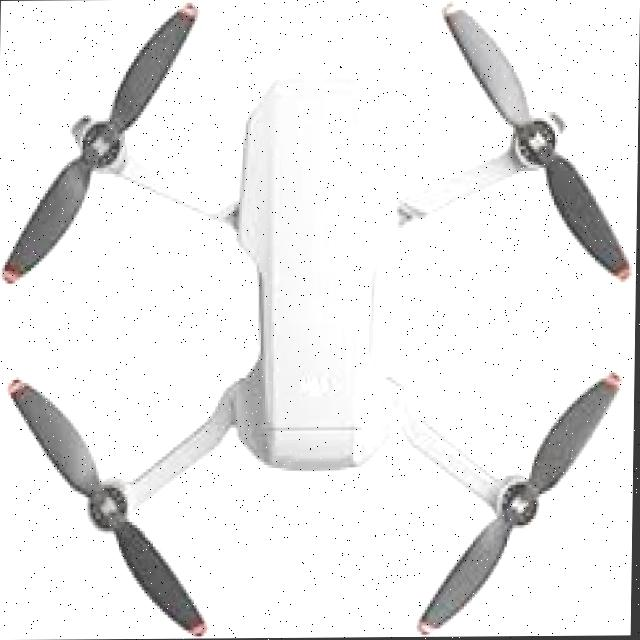drone: (0, 0, 624, 640)
